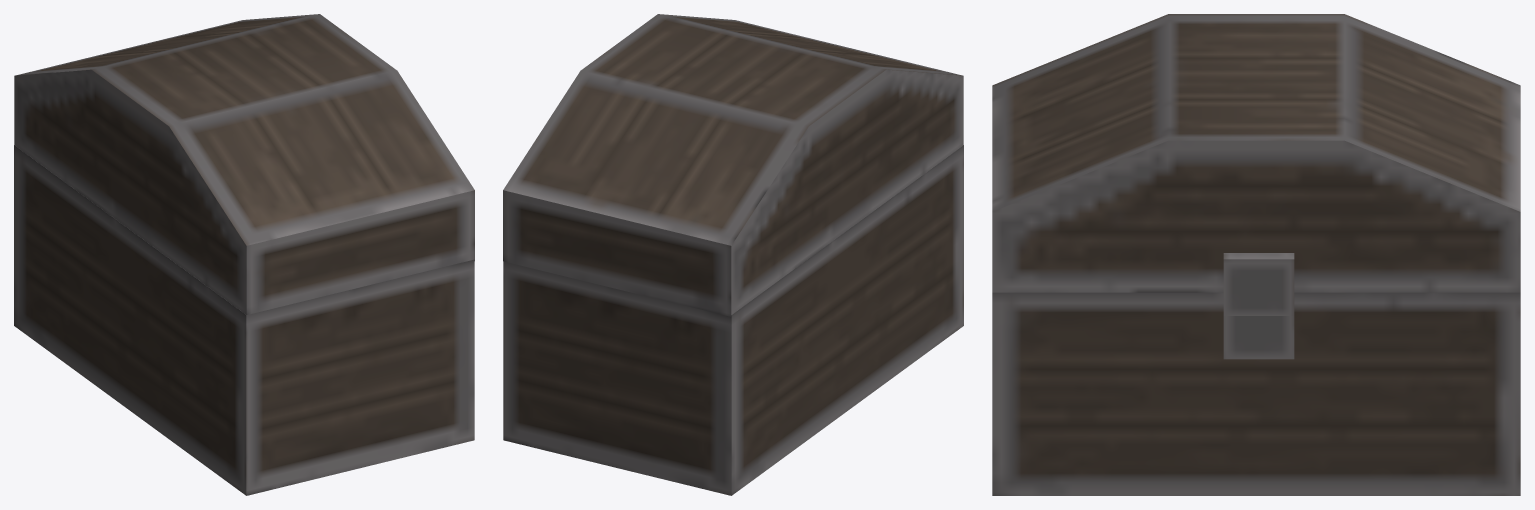
Rendered from SilTreasureBox.fbx.
The picture shows the model from 3 angles, left to right: view 1: azimuth 30°, elevation 25°; view 2: azimuth 150°, elevation 25°; view 3: azimuth 270°, elevation 25°; orthographic projection. The views are drawn at different scales.
Parts seen in each view (by area): view 1: polySurface436, polySurface435; view 2: polySurface436, polySurface435; view 3: polySurface436, polySurface435.
Part boxes in pixels (<box>): polySurface436: <box>14,14,474,314</box>; polySurface435: <box>14,145,474,495</box>; polySurface436: <box>503,14,963,316</box>; polySurface435: <box>503,145,963,495</box>; polySurface436: <box>992,14,1520,315</box>; polySurface435: <box>992,292,1520,495</box>.
Size of the model in its own units: 395 by 492 by 663.
